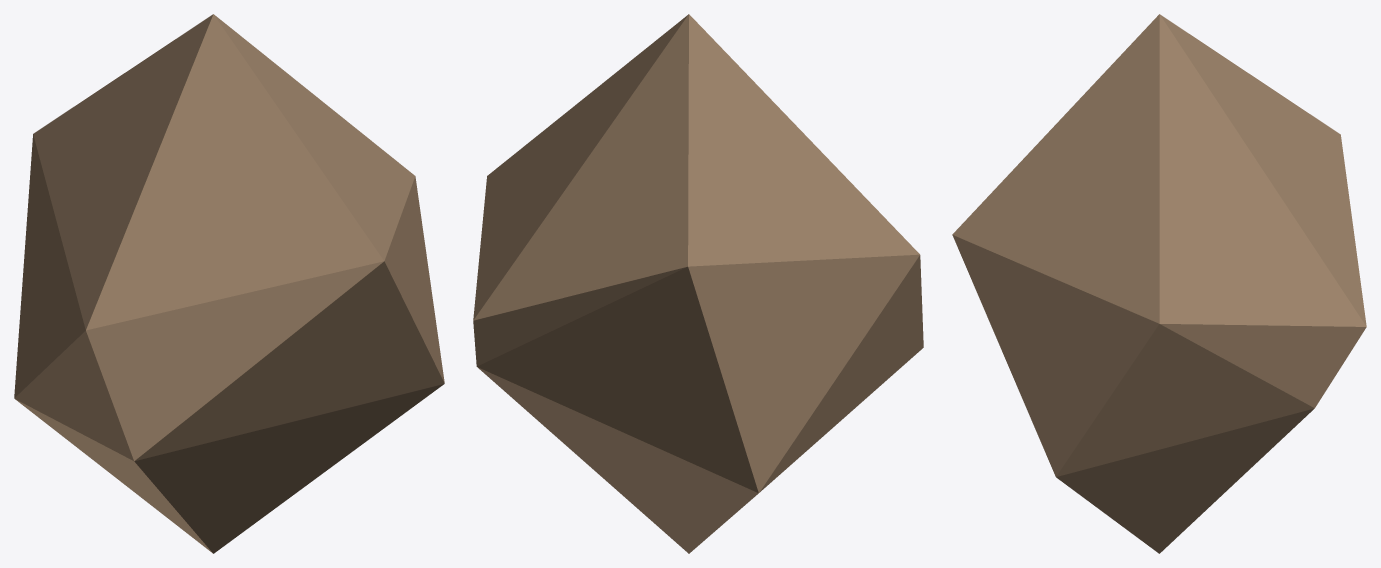
The model's file is asteroid.obj.
The picture shows the model from 3 angles, left to right: view 1: azimuth 30°, elevation 25°; view 2: azimuth 150°, elevation 25°; view 3: azimuth 270°, elevation 25°; orthographic projection.
Bounding box in the file's own units: 1.7 × 2.3 × 1.6.
